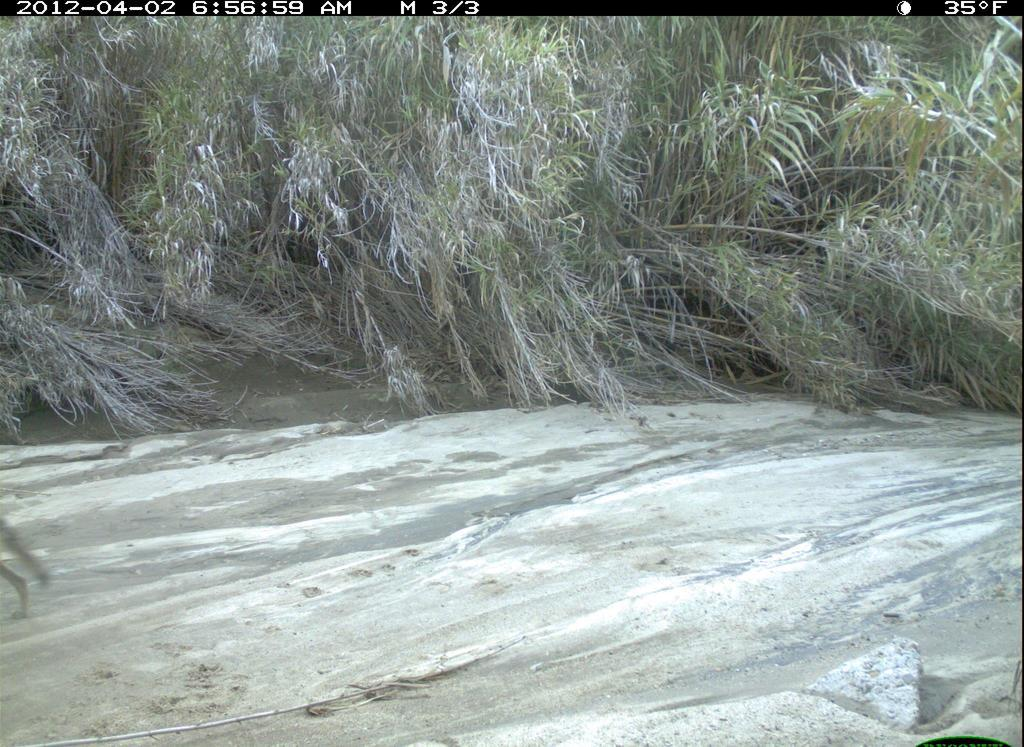coyote: (1, 505, 50, 635)
